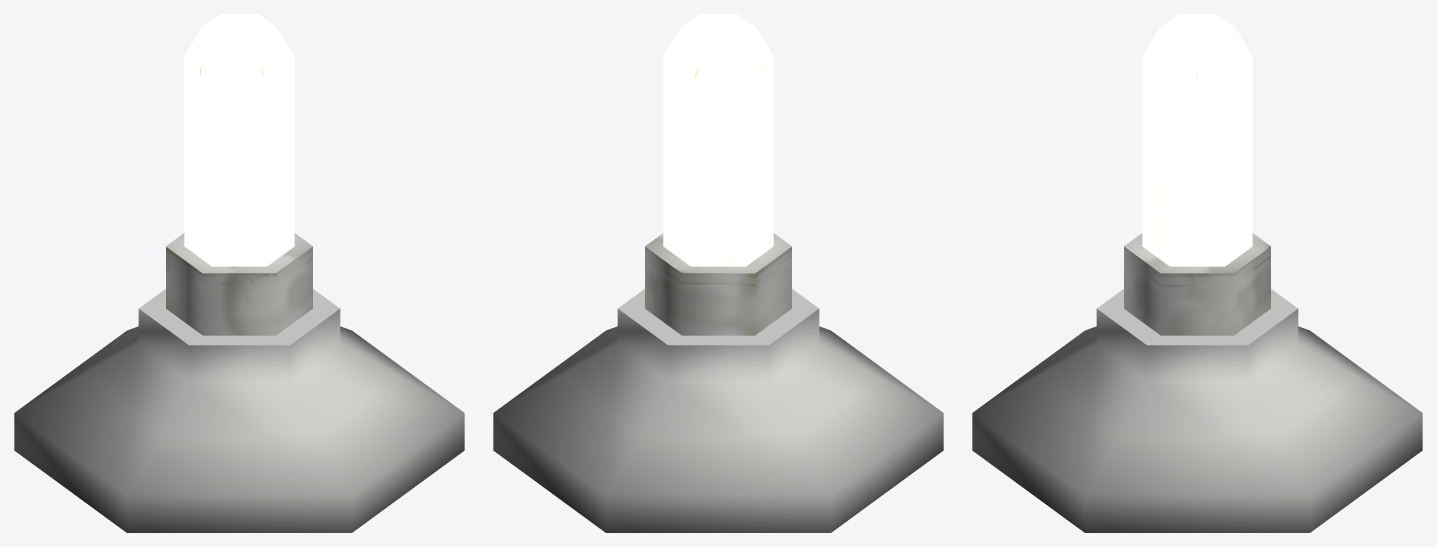
Rendered from Bulb1.glb.
3 renders of one model, left to right at view 1: azimuth 30°, elevation 25°; view 2: azimuth 150°, elevation 25°; view 3: azimuth 270°, elevation 25°, orthographic.
Parts seen in each view (by area): view 1: Focus_01; view 2: Focus_01; view 3: Focus_01.
Part boxes in pixels (x1,y1,x2,y2): Focus_01: (14, 14, 464, 532); Focus_01: (493, 14, 943, 532); Focus_01: (972, 14, 1422, 532).
Bounding box in the file's own units: 0.2329 × 0.2788 × 0.269.
Materials: 1 (1 with a texture image).
